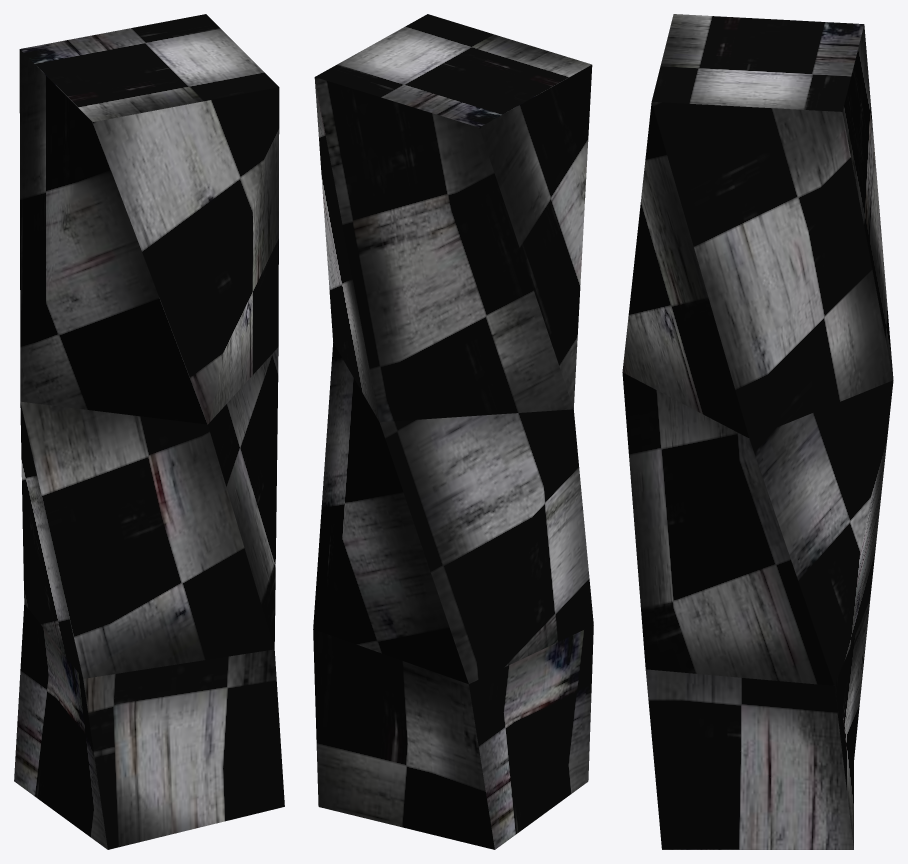
Rendered from R2_Wall.obj.
3 renders of one model, left to right at view 1: azimuth 30°, elevation 25°; view 2: azimuth 150°, elevation 25°; view 3: azimuth 270°, elevation 25°, orthographic. The views are drawn at different scales.
Parts seen in each view (by area): view 1: Cube.001_Cube.002; view 2: Cube.001_Cube.002; view 3: Cube.001_Cube.002.
Boxes of the visible parts, x1,y1,x2,y2 form: Cube.001_Cube.002: [14, 14, 284, 849]; Cube.001_Cube.002: [313, 14, 593, 849]; Cube.001_Cube.002: [622, 14, 893, 849].
Size of the model in its own units: 2.21 by 6.15 by 2.03.
1 material, 1 textured.
